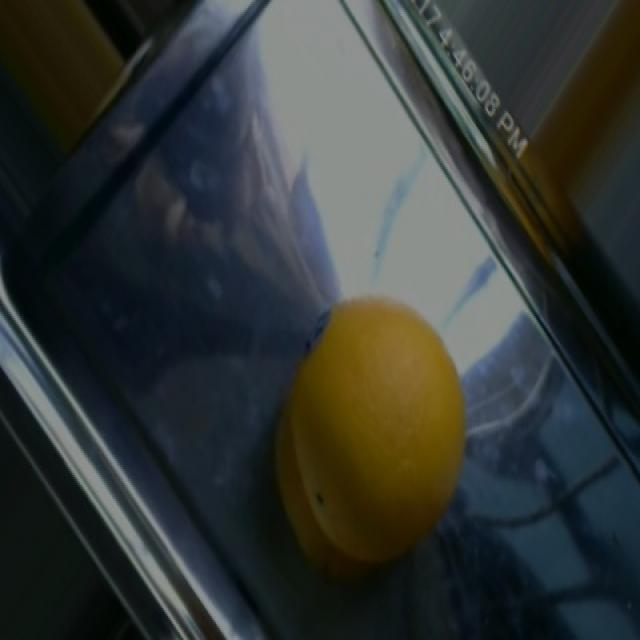Fruit: (242, 272, 490, 594)
